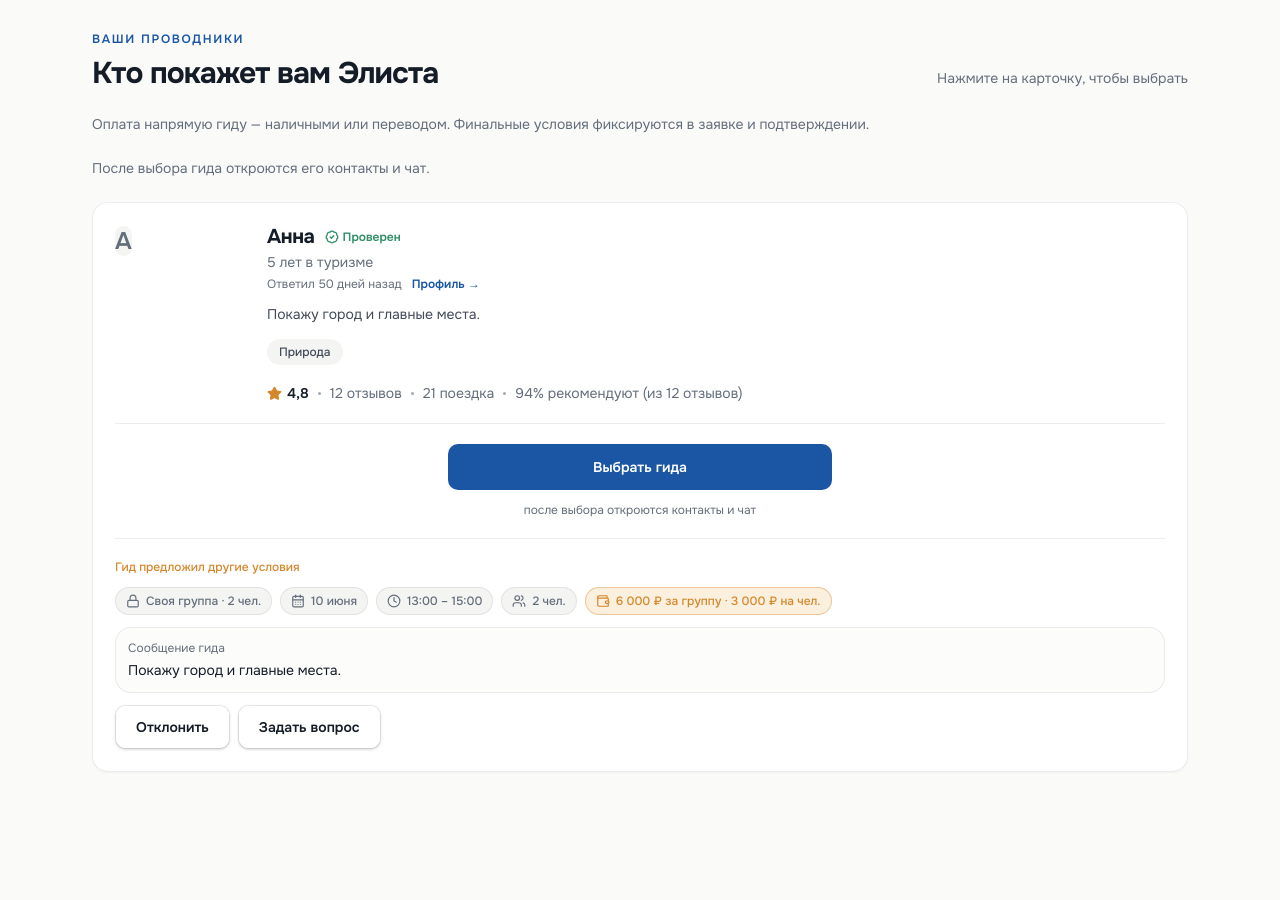
Test case: RequestDetailScreen › renders the canon RequestFactsCard above the offer list with no rainbow badges
(page scrolled)
Expected: the text "После выбора гида откроются его контакты и чат." is shown once, [92,159,430,177]
Expected: the button "Не подходит" is not shown
Click the button "Выбрать гида".
click(640, 467)  # box [448,444,832,490]
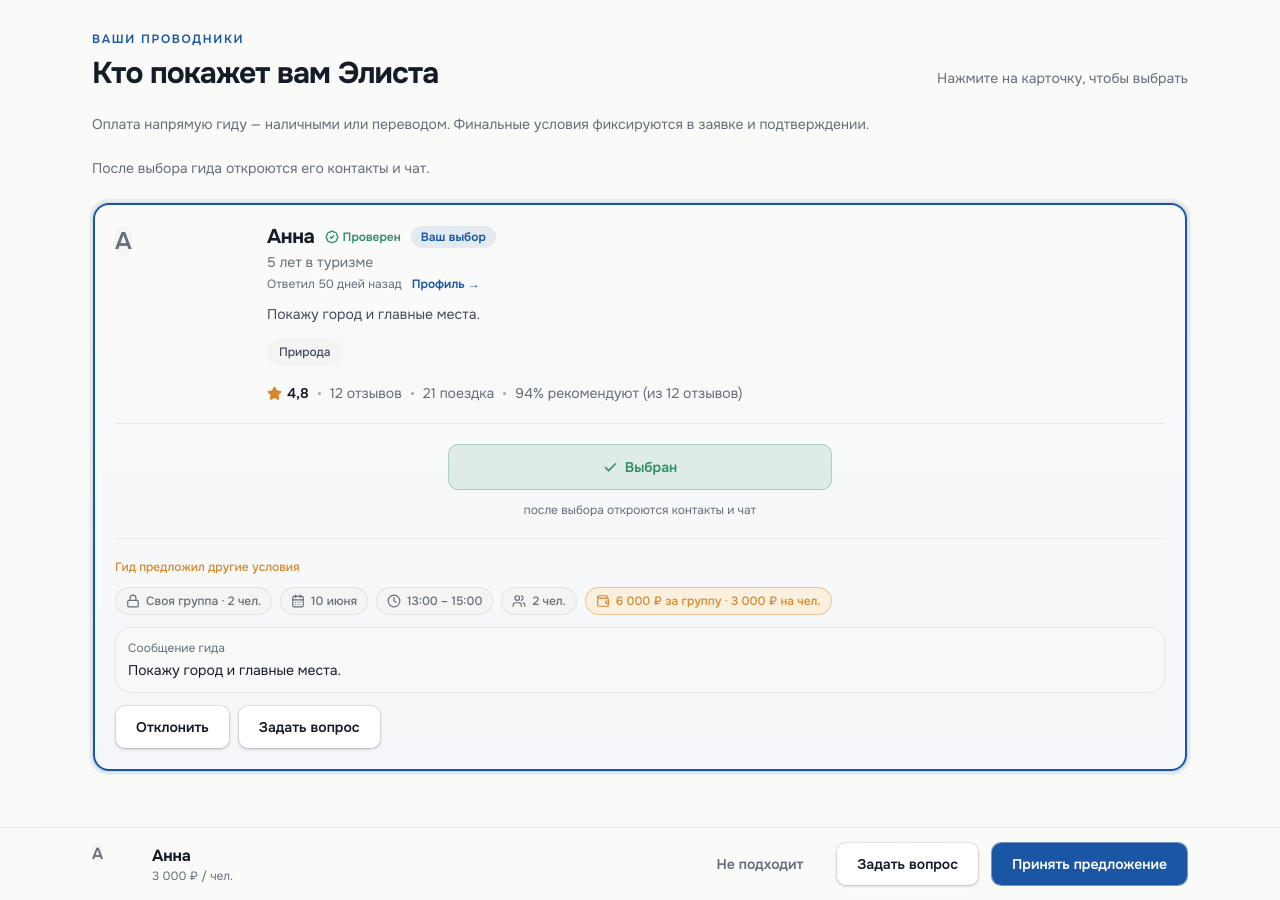
Result: the button "Не подходит" is shown at [696,842,824,886]
